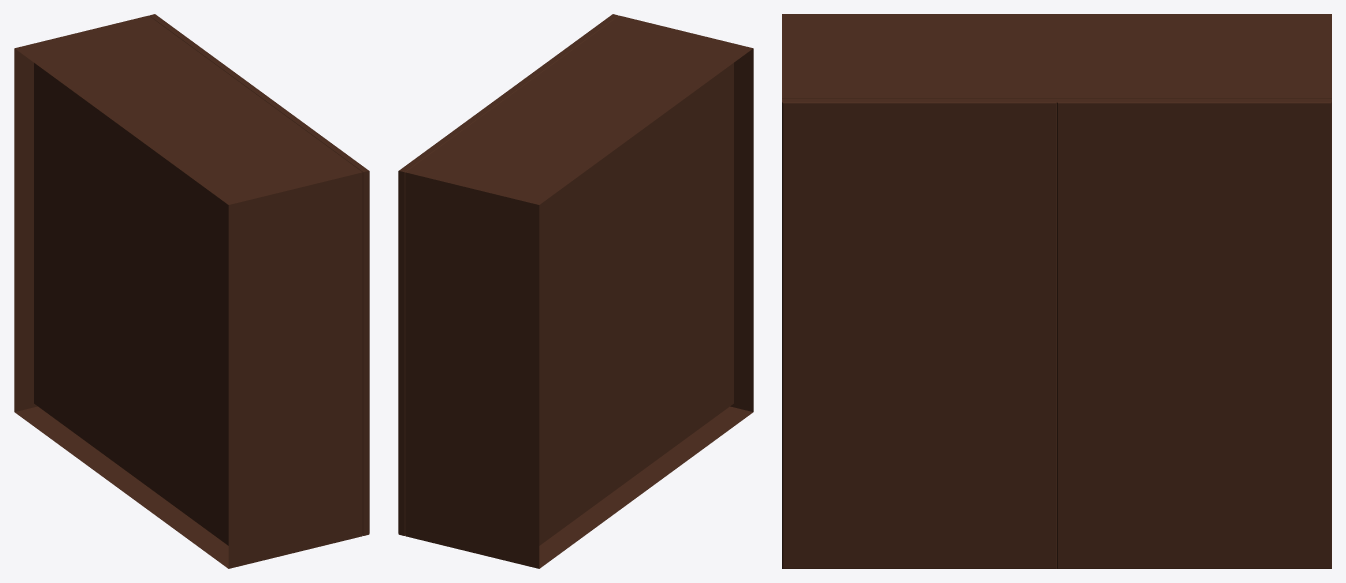
The model's file is WallCabinet.fbx.
3 views of the same model, side by side, from view 1: azimuth 30°, elevation 25°; view 2: azimuth 150°, elevation 25°; view 3: azimuth 270°, elevation 25° (orthographic). The views are drawn at different scales.
Parts seen in each view (by area): view 1: Room1_CabinetOverSInk, Door, Door1; view 2: Room1_CabinetOverSInk, Door1, Door; view 3: Door, Door1, Room1_CabinetOverSInk.
Boxes of the visible parts, x1,y1,x2,y2 form: Room1_CabinetOverSInk: [14, 15, 362, 568]; Door: [256, 92, 369, 535]; Door1: [149, 14, 261, 93]; Room1_CabinetOverSInk: [405, 15, 753, 568]; Door1: [398, 92, 511, 535]; Door: [506, 14, 618, 93]; Door: [782, 98, 1056, 568]; Door1: [1057, 98, 1331, 568]; Room1_CabinetOverSInk: [782, 14, 1331, 98].
Bounding box in the file's own units: 37.23 × 91.6 × 97.73.
